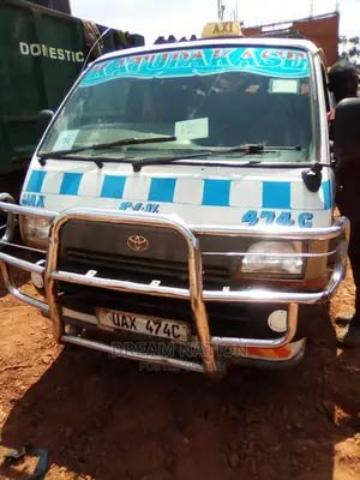van: (0, 20, 349, 379)
